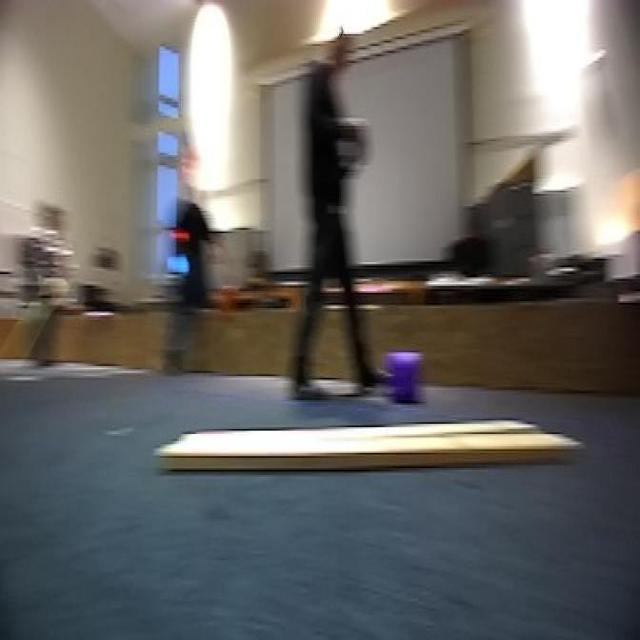frc_cube: (384, 352, 425, 405)
